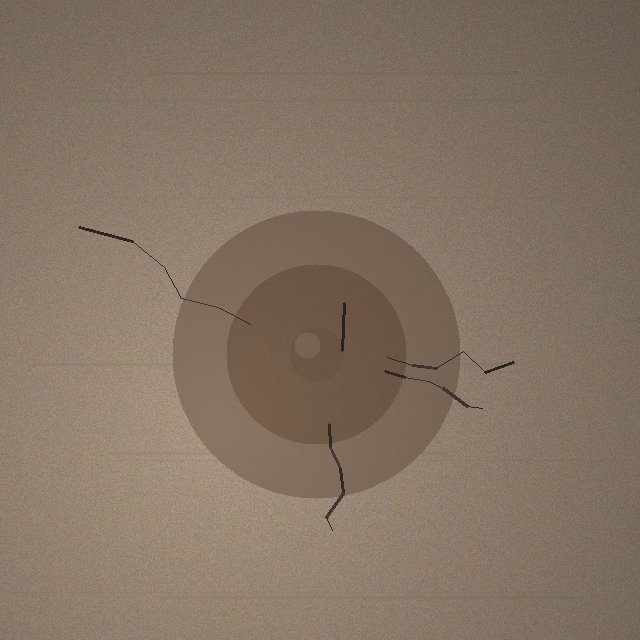crack: (172, 210, 460, 498)
